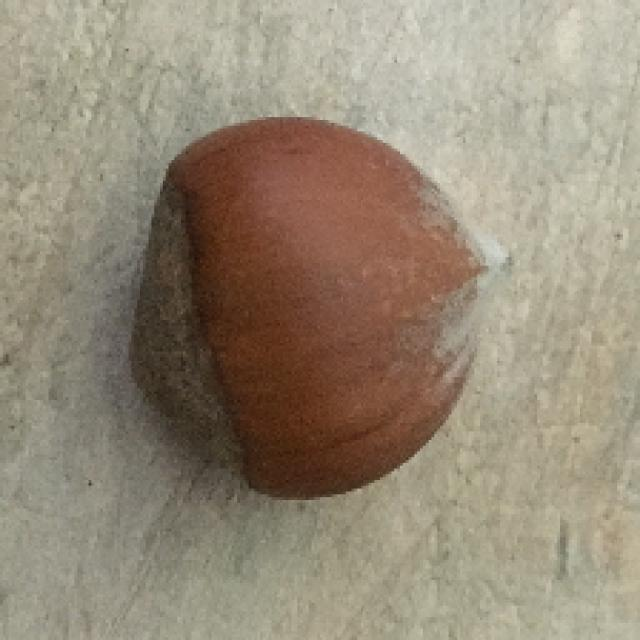qualityHazelnut: (124, 120, 493, 494)
